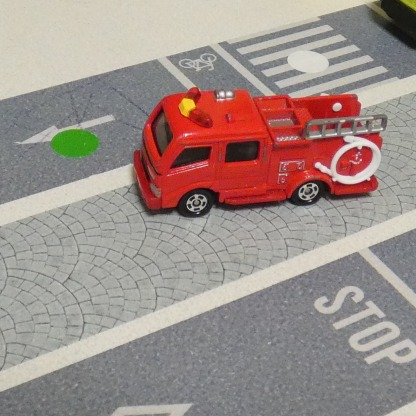car: (137, 87, 380, 222)
